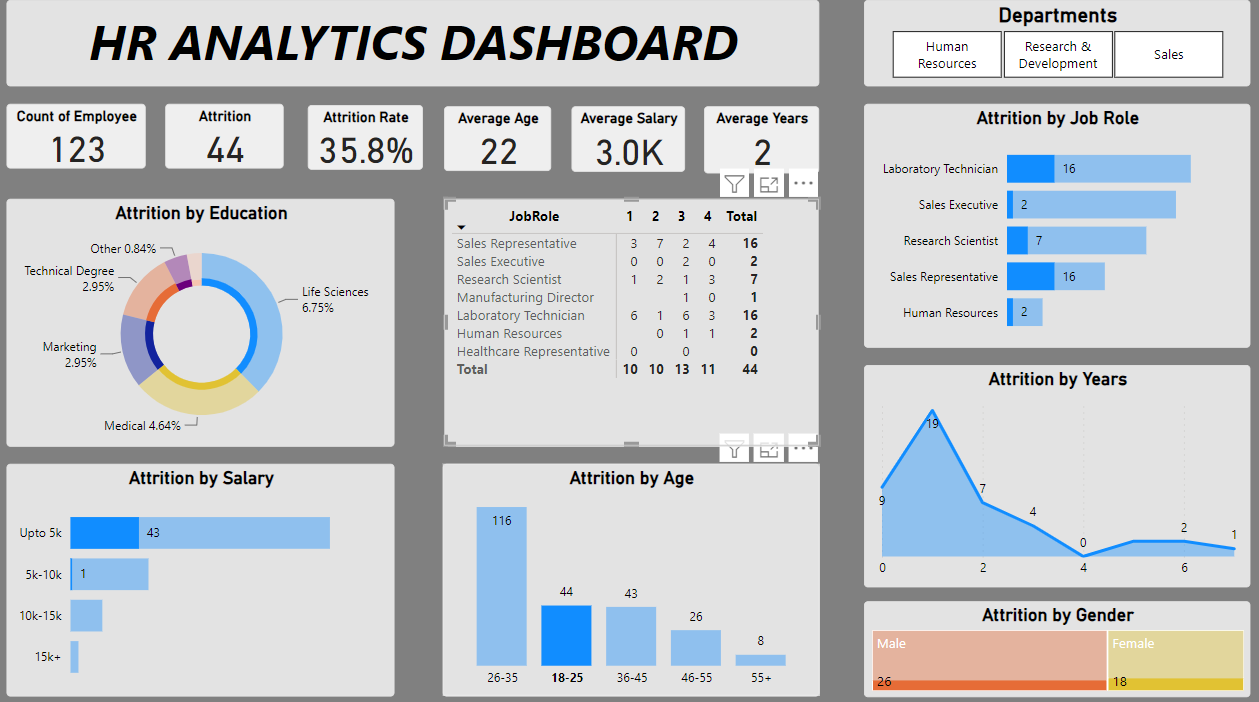

The page's visual inventory and layout, read from the dashboard file:
{"tool":"powerbi","page":{"name":"Page 1","canvas":[1280,720],"ordinal":0},"visuals":[{"type":"card","title":"Count of Employee","fields":{"Values":["CountNonNull(HR_Analytics.EmpID)"]},"box":[17,113.8,139.4,64.9],"z":0},{"type":"card","title":"Attrition","fields":{"Values":["Sum(HR_Analytics.AttritionCount)"]},"box":[176.6,113.8,118.1,64.9],"z":1000},{"type":"card","title":"Attrition Rate","fields":{"Values":["HR_Analytics.AttritionRate"]},"box":[319.1,114.9,114.9,64.9],"z":2000},{"type":"card","title":"Average Age ","fields":{"Values":["Avg(HR_Analytics.Age)"]},"box":[455.3,116,107.4,64.9],"z":3000},{"type":"card","title":"Average Salary","fields":{"Values":["Avg(HR_Analytics.MonthlyIncome)"]},"box":[583,116,113.8,66],"z":4000},{"type":"card","title":"Average Years ","fields":{"Values":["Avg(HR_Analytics.YearsAtCompany)"]},"box":[714.9,116,114.9,67],"z":5000},{"type":"donutChart","title":"Attrition by Education","fields":{"Category":["HR_Analytics.EducationField"],"Y":["Sum(HR_Analytics.AttritionCount)"]},"box":[17,208.5,388.3,247.9],"z":6000},{"type":"columnChart","title":"Attrition by Age","fields":{"Category":["HR_Analytics.AgeGroup"],"Y":["Sum(HR_Analytics.AttritionCount)"]},"box":[453.2,473.4,376.6,233],"z":7000},{"type":"pivotTable","fields":{"Rows":["HR_Analytics.JobRole"],"Columns":["HR_Analytics.JobSatisfaction"],"Values":["Sum(HR_Analytics.AttritionCount)"]},"box":[455.3,208.5,374.5,247.9],"z":8000},{"type":"barChart","title":"Attrition by Salary","fields":{"Category":["HR_Analytics.SalarySlab"],"Y":["Sum(HR_Analytics.AttritionCount)"]},"box":[17,473.4,388.3,233],"z":9000},{"type":"barChart","title":"Attrition by Job Role","fields":{"Category":["HR_Analytics.JobRole"],"Y":["Sum(HR_Analytics.AttritionCount)"]},"box":[875.5,113.8,386.2,243.6],"z":10000},{"type":"areaChart","title":"Attrition by Years","fields":{"Category":["HR_Analytics.YearsAtCompany"],"Y":["Sum(HR_Analytics.AttritionCount)"]},"box":[875,375,386.2,222.5],"z":11000},{"type":"treemap","title":"Attrition by Gender","fields":{"Group":["HR_Analytics.Gender"],"Values":["Sum(HR_Analytics.AttritionCount)"]},"box":[875.5,610.6,386.2,95.7],"z":12000},{"type":"slicer","title":"Departments","fields":{"Values":["HR_Analytics.Department"]},"box":[875.5,9.6,386.2,86.2],"z":13000},{"type":"textbox","box":[17,9.6,812.8,86.2],"z":14000}]}

Visuals, with their boxes in screenshot pixels (x1, y1, x2, y2), scaled from the page's 1280x720 canvas onto the 1259x702 screenshot:
"Count of Employee" card: rect(17, 111, 154, 174)
"Attrition" card: rect(174, 111, 290, 174)
"Attrition Rate" card: rect(314, 112, 427, 175)
"Average Age " card: rect(448, 113, 553, 176)
"Average Salary" card: rect(573, 113, 685, 177)
"Average Years " card: rect(703, 113, 816, 178)
"Attrition by Education" donutChart: rect(17, 203, 399, 445)
"Attrition by Age" columnChart: rect(446, 462, 816, 689)
pivotTable - HR_Analytics.JobRole x HR_Analytics.JobSatisfaction: rect(448, 203, 816, 445)
"Attrition by Salary" barChart: rect(17, 462, 399, 689)
"Attrition by Job Role" barChart: rect(861, 111, 1241, 348)
"Attrition by Years" areaChart: rect(861, 366, 1241, 583)
"Attrition by Gender" treemap: rect(861, 595, 1241, 689)
"Departments" slicer: rect(861, 9, 1241, 93)
textbox: rect(17, 9, 816, 93)
